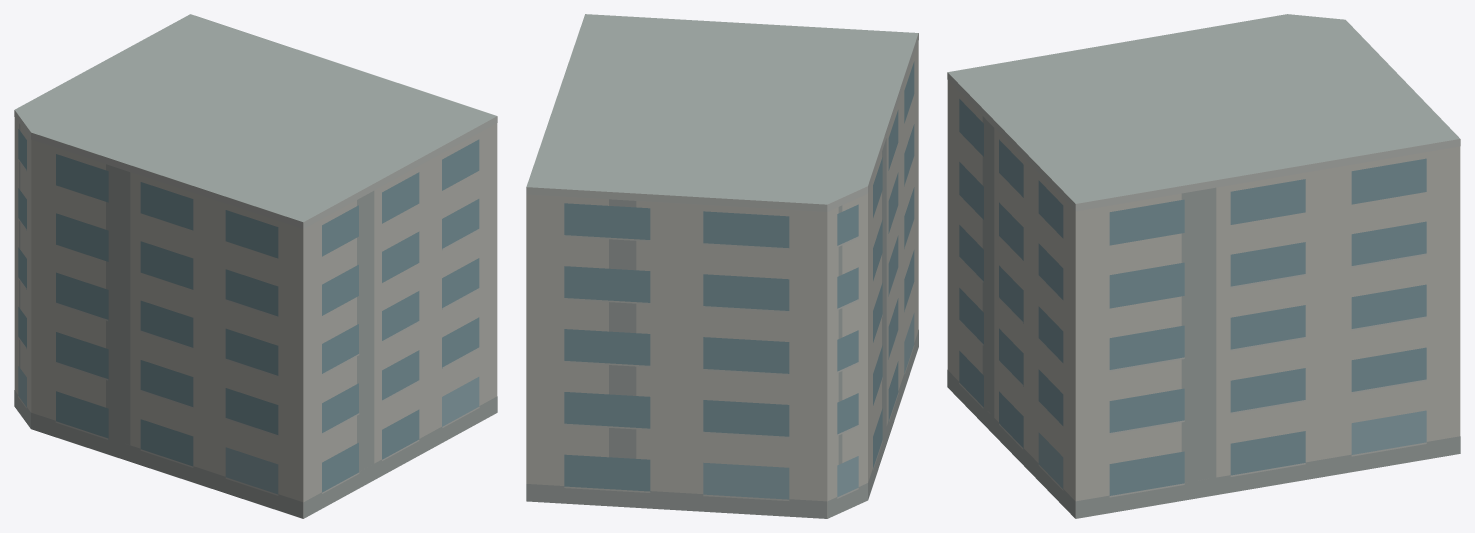
File: survey-upis-32848997.glb
3 renders of one model, left to right at view 1: azimuth 30°, elevation 25°; view 2: azimuth 150°, elevation 25°; view 3: azimuth 270°, elevation 25°, orthographic. The views are drawn at different scales.
Visible parts, largest first — view 1: survey-upis-32848997.tmp; view 2: survey-upis-32848997.tmp; view 3: survey-upis-32848997.tmp.
Part boxes in pixels (box(x1,y1,x2,y2)): survey-upis-32848997.tmp: box(14, 14, 497, 518); survey-upis-32848997.tmp: box(526, 14, 918, 518); survey-upis-32848997.tmp: box(947, 14, 1460, 518).
Size of the model in its own units: 13.33 by 10.3 by 15.22.
